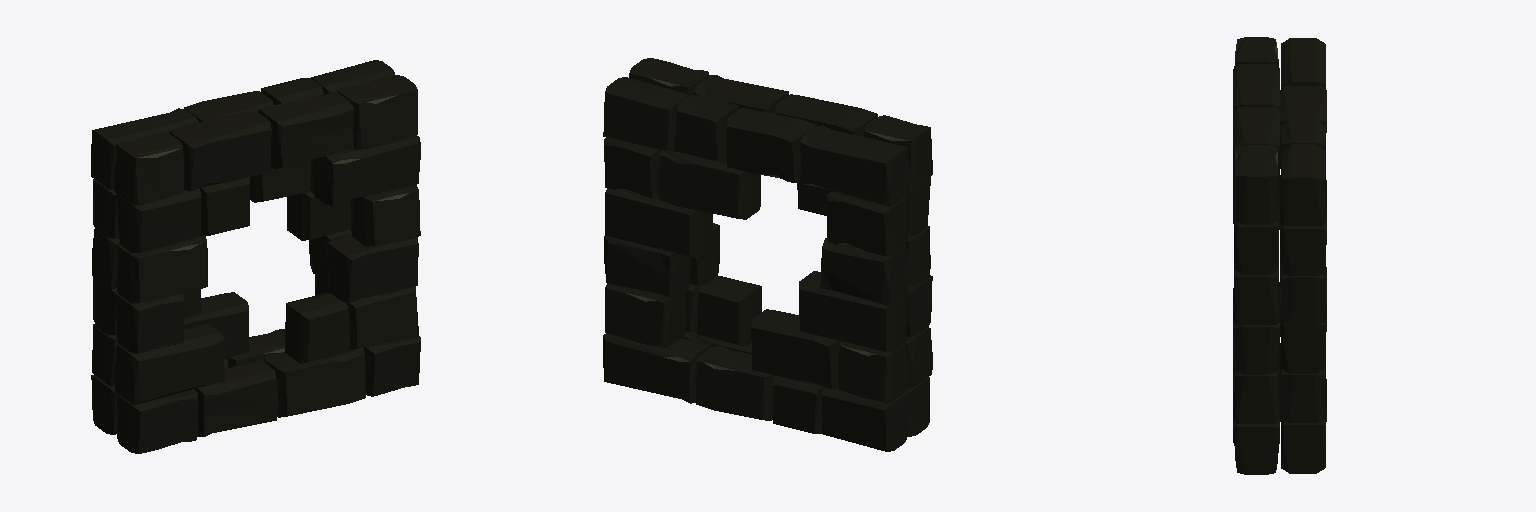
The model's file is Wall_Double_Hole.obj.
3 renders of one model, left to right at view 1: azimuth 30°, elevation 25°; view 2: azimuth 150°, elevation 25°; view 3: azimuth 270°, elevation 25°, orthographic.
Visible parts, largest first — view 1: Wall_Double_Hole_Cube.013; view 2: Wall_Double_Hole_Cube.013; view 3: Wall_Double_Hole_Cube.013.
Boxes of the visible parts, x1,y1,x2,y2 form: Wall_Double_Hole_Cube.013: [91, 60, 420, 453]; Wall_Double_Hole_Cube.013: [603, 58, 932, 451]; Wall_Double_Hole_Cube.013: [1233, 37, 1326, 474].
Size of the model in its own units: 1.99 by 1.98 by 0.5654.